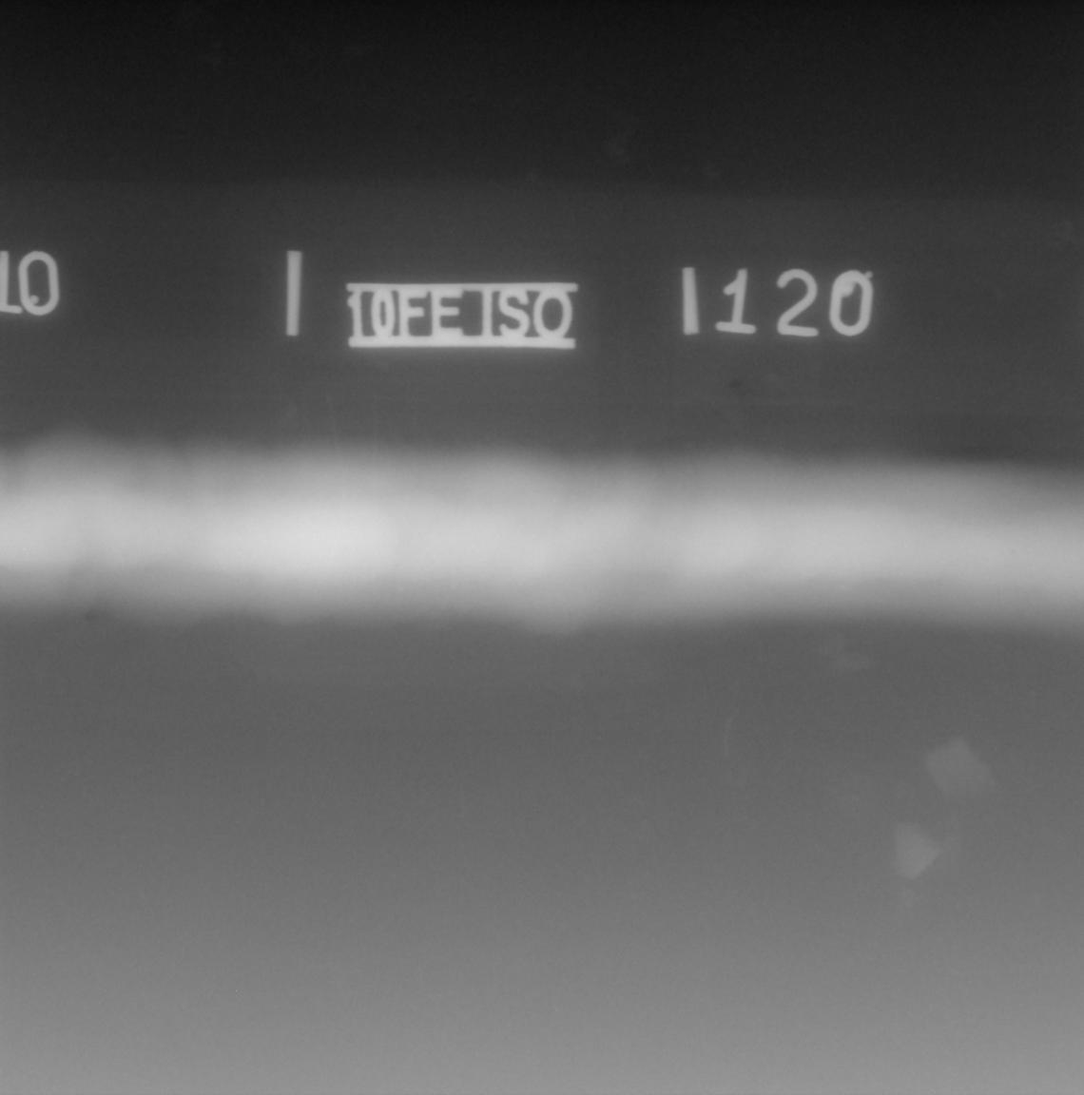Pore/Porosity: (1011, 551, 1015, 555)
Undercut: (85, 616, 96, 621)
